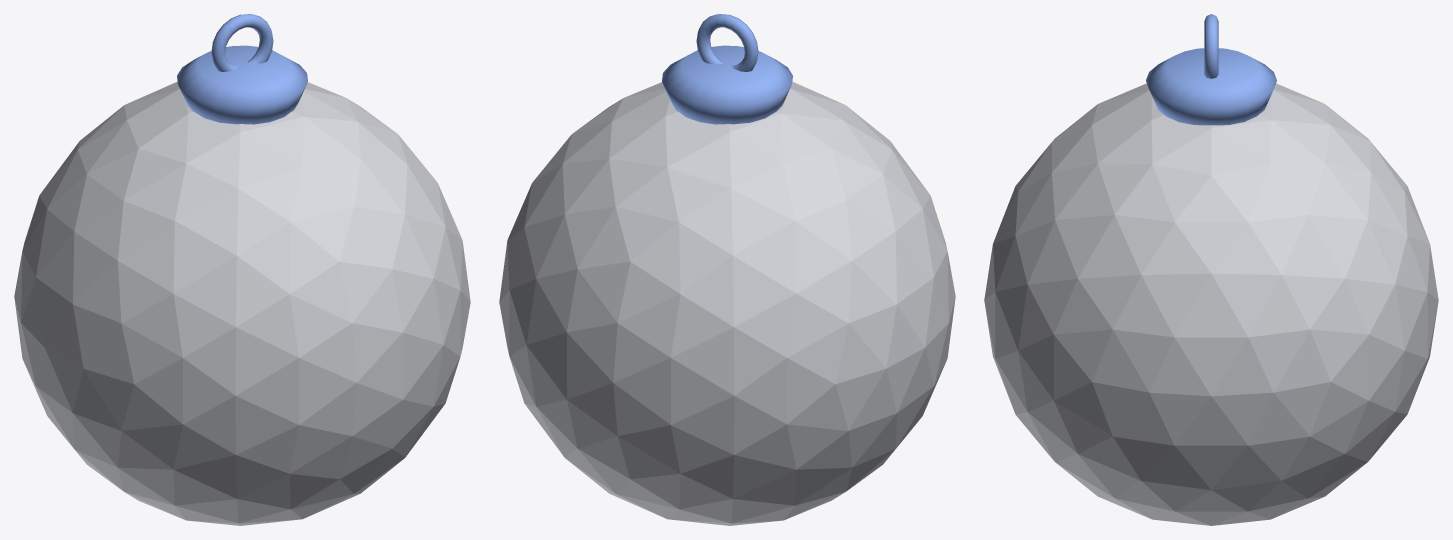
File: LastDancerMirrorBall.glb
The picture shows the model from 3 angles, left to right: view 1: azimuth 30°, elevation 25°; view 2: azimuth 150°, elevation 25°; view 3: azimuth 270°, elevation 25°; orthographic projection.
Visible parts, largest first — view 1: Ball, Cap; view 2: Ball, Cap; view 3: Ball, Cap.
Boxes of the visible parts, left/top/right/bottom form: Ball: left=14, top=81, right=470, bottom=525; Cap: left=177, top=14, right=307, bottom=124; Ball: left=499, top=81, right=955, bottom=525; Cap: left=662, top=14, right=792, bottom=124; Ball: left=984, top=83, right=1438, bottom=525; Cap: left=1146, top=14, right=1276, bottom=125.
Bounding box in the file's own units: 9 × 10.69 × 9.
